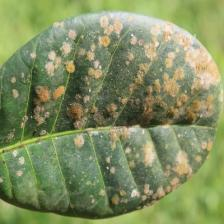red rust: (0, 9, 223, 219)
